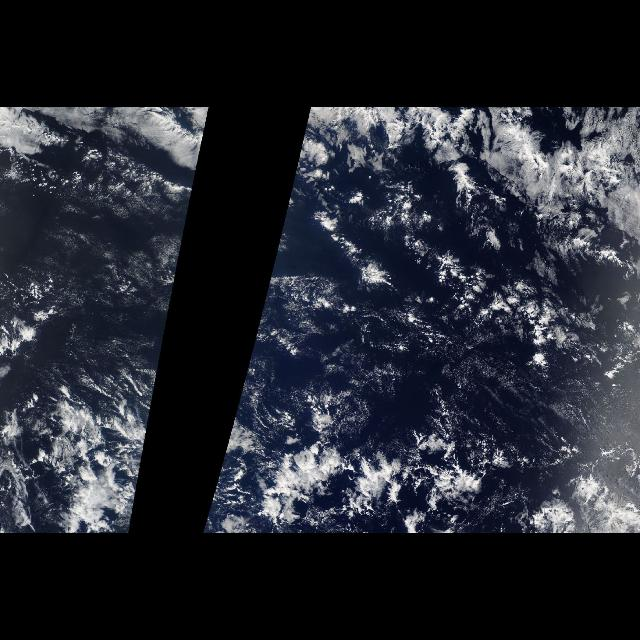Fish: (394, 107, 636, 251)
Sugar: (44, 184, 188, 390), (459, 337, 636, 465)
